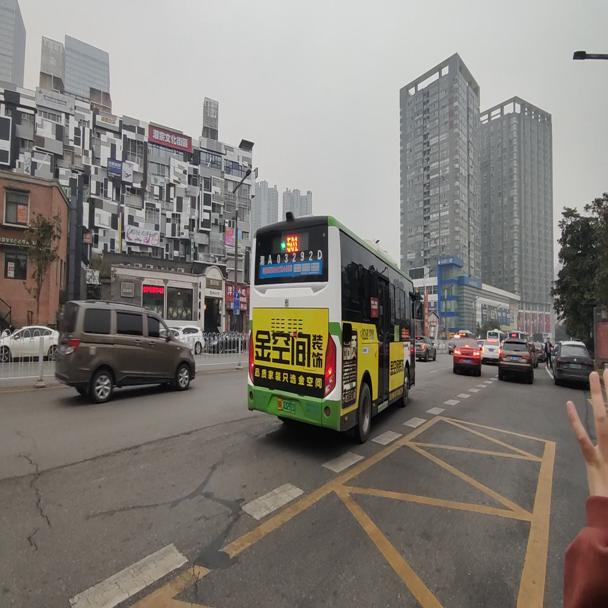bus: (247, 209, 423, 442)
screen: (286, 235, 297, 251)
